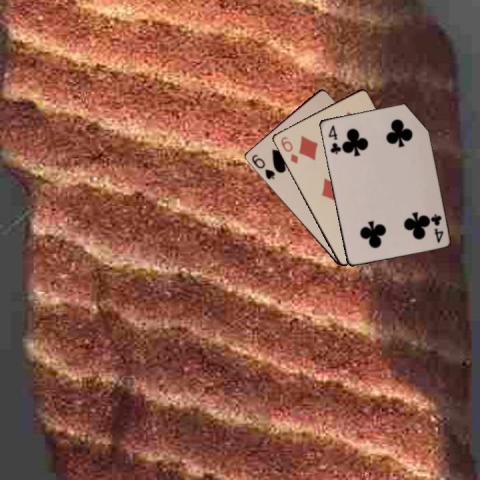4c: (427, 211, 445, 244), (326, 122, 342, 155)
6d: (278, 133, 300, 165)
6s: (249, 151, 276, 181)
